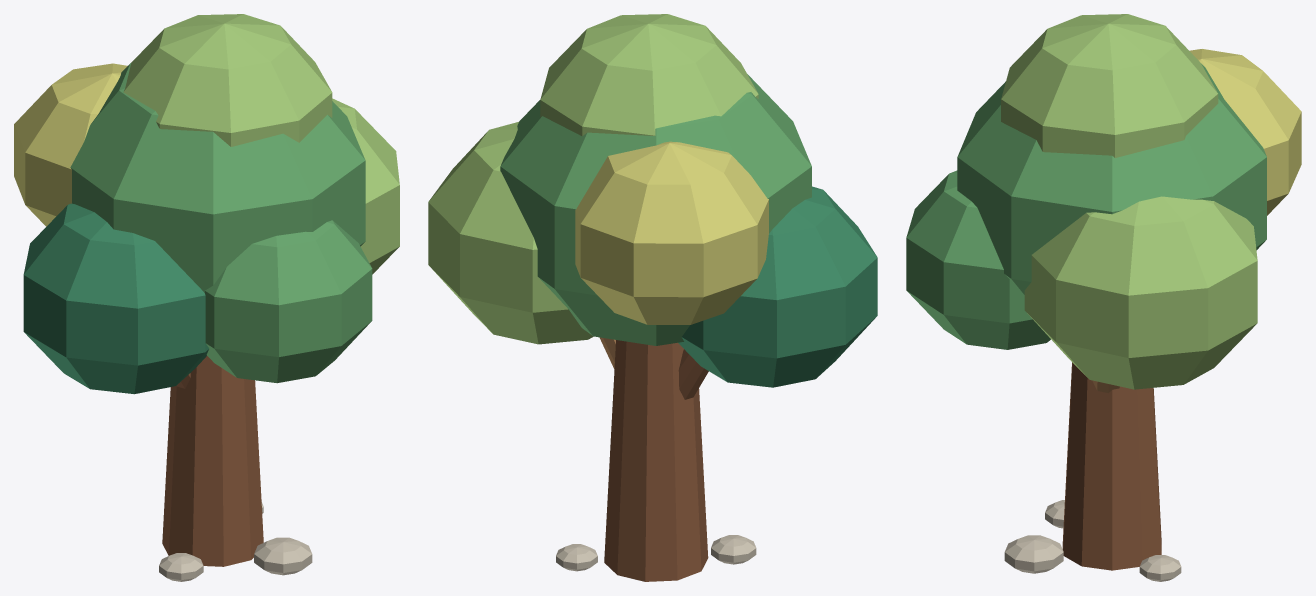
File: tree-meadow.gltf
3 renders of one model, left to right at view 1: azimuth 30°, elevation 25°; view 2: azimuth 150°, elevation 25°; view 3: azimuth 270°, elevation 25°, orthographic. The views are drawn at different scales.
Parts seen in each view (by area): view 1: foliage_leaf (×2), foliage_leafDark, foliage_leafLight (×2), trunk_bark, foliage_leafGold, foliage_stoneLight (×2); view 2: foliage_leafLight (×2), foliage_leafGold, foliage_leaf, foliage_leafDark, trunk_bark (×2), foliage_stoneLight (×2); view 3: foliage_leafLight (×2), foliage_leaf (×2), trunk_bark, foliage_leafGold, foliage_stoneLight (×2).
Boxes of the visible parts, <box> form: foliage_leaf (×2): <box>70,63,372,383</box>; foliage_leafDark: <box>23,203,209,394</box>; foliage_leafLight (×2): <box>123,14,399,274</box>; trunk_bark: <box>162,356,263,566</box>; foliage_leafGold: <box>14,63,127,226</box>; foliage_stoneLight (×2): <box>159,537,312,581</box>; foliage_leafLight (×2): <box>428,14,758,344</box>; foliage_leafGold: <box>575,141,768,324</box>; foliage_leaf: <box>500,74,811,345</box>; foliage_leafDark: <box>678,186,877,387</box>; trunk_bark (×2): <box>604,340,708,581</box>; foliage_stoneLight (×2): <box>556,535,756,571</box>; foliage_leafLight (×2): <box>1001,14,1257,389</box>; foliage_leaf (×2): <box>906,63,1266,349</box>; trunk_bark: <box>1062,362,1161,570</box>; foliage_leafGold: <box>1189,49,1301,215</box>; foliage_stoneLight (×2): <box>1004,535,1181,581</box>.
Size of the model in its own units: 2.39 by 3.17 by 2.13.
